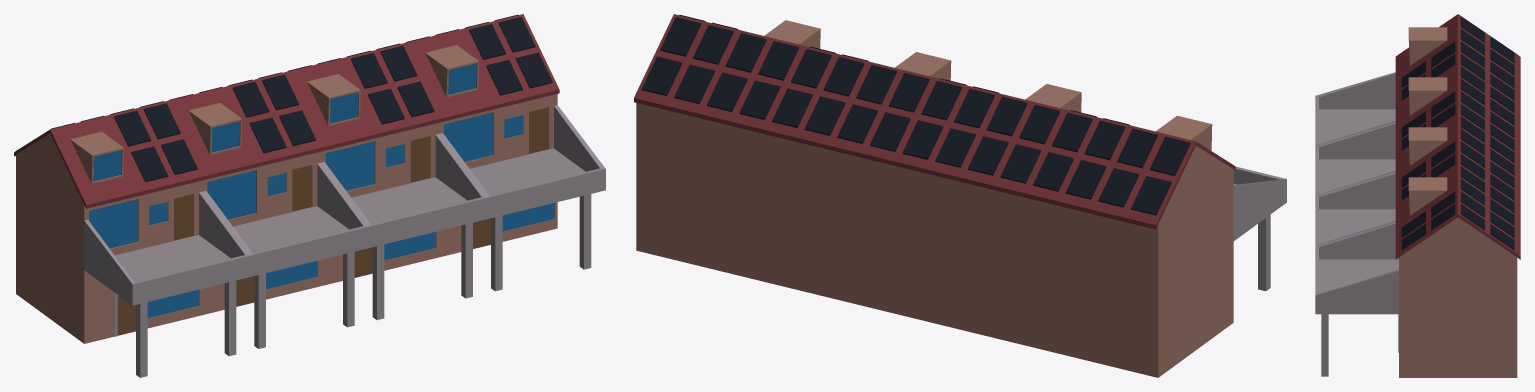
The model's file is huizen.fbx.
3 views of the same model, side by side, from view 1: azimuth 30°, elevation 25°; view 2: azimuth 150°, elevation 25°; view 3: azimuth 270°, elevation 25° (orthographic). The views are drawn at different scales.
Parts seen in each view (by area): view 1: huis; view 2: huis; view 3: huis.
Part boxes in pixels (x1,y1,x2,y2): huis: (14,14,605,377); huis: (634,14,1286,377); huis: (1315,14,1520,377).
Size of the model in its own units: 3200 by 1250 by 1390.
